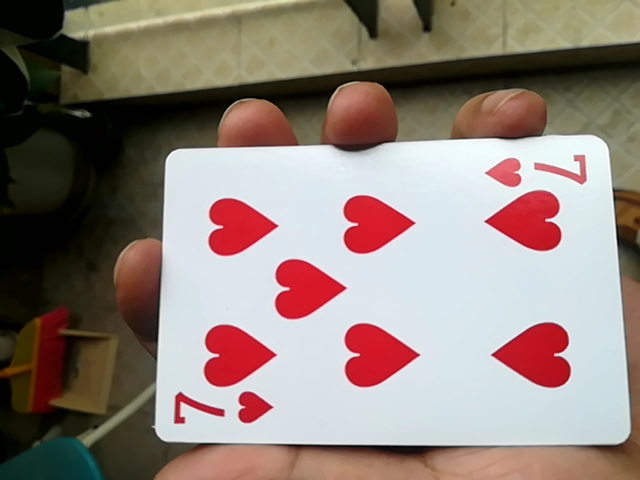hx 7: (140, 135, 619, 452)
